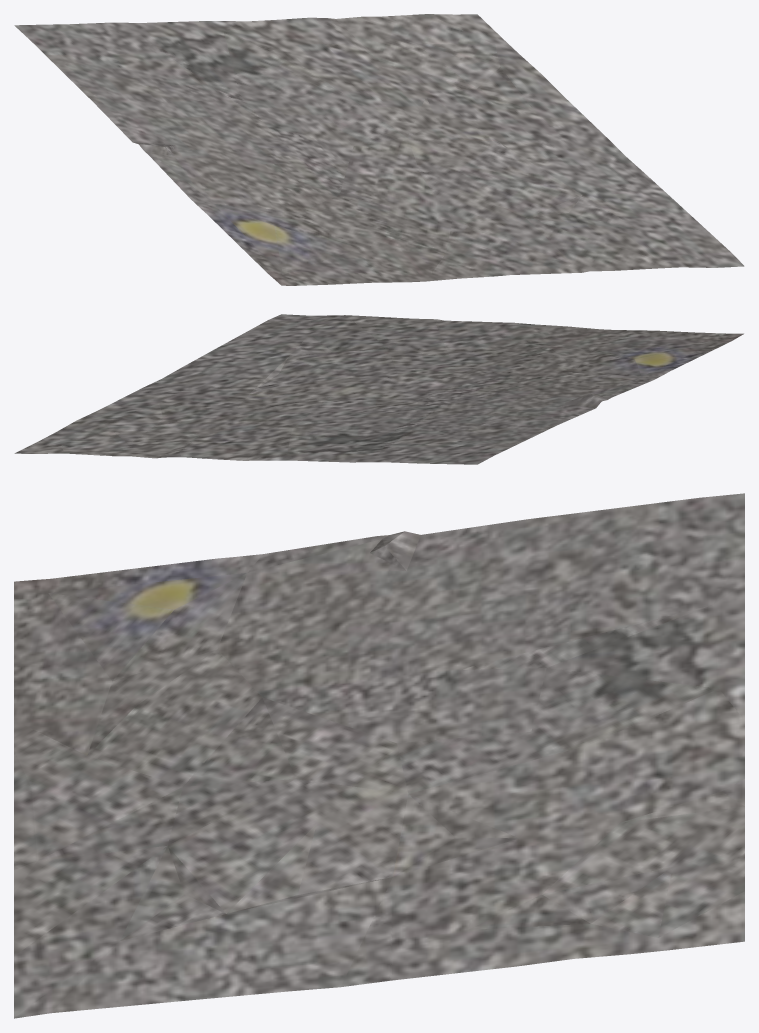
3 views of the same model, one above another, from view 1: azimuth 30°, elevation 25°; view 2: azimuth 150°, elevation 25°; view 3: azimuth 270°, elevation 25° (orthographic). The views are drawn at different scales.
Size of the model in its own units: 0.8374 by 0.2735 by 0.8374.
3 materials, 3 textured.
